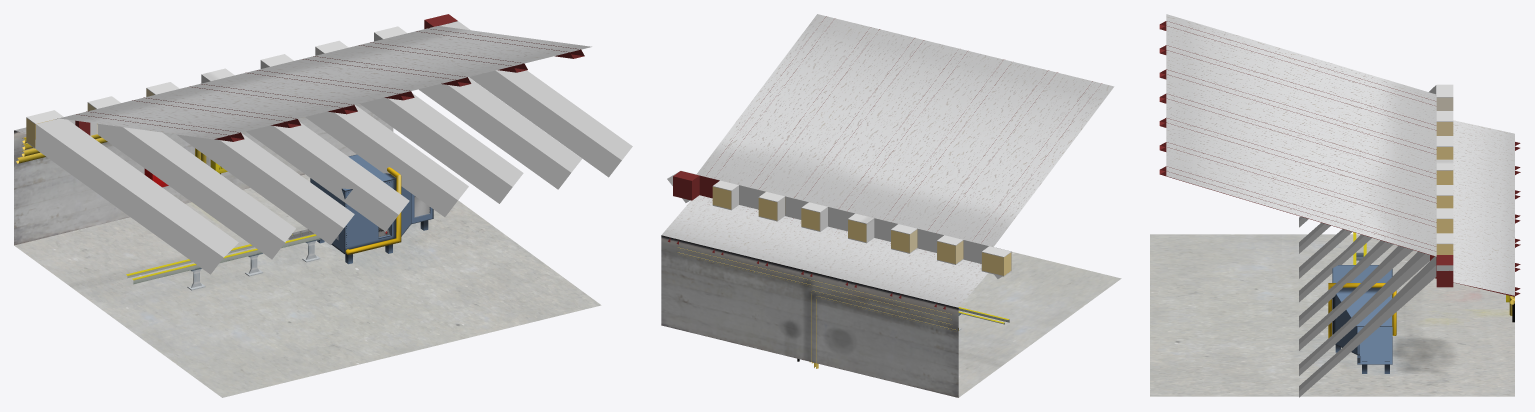
The model's file is Warehouse.FBX.
3 renders of one model, left to right at view 1: azimuth 30°, elevation 25°; view 2: azimuth 150°, elevation 25°; view 3: azimuth 270°, elevation 25°, orthographic. The views are drawn at different scales.
Parts seen in each view (by area): view 1: Hall, Sun Shaft, Machine, BackgroundLineStatic; view 2: Hall, HallPipes; view 3: Hall, Sun Shaft, Machine.
Boxes of the visible parts, <box> form: Hall: <box>14,14,601,397</box>; Sun Shaft: <box>36,21,632,274</box>; Machine: <box>310,154,433,264</box>; BackgroundLineStatic: <box>126,231,320,290</box>; Hall: <box>661,14,1121,397</box>; HallPipes: <box>678,247,958,368</box>; Hall: <box>1150,14,1520,396</box>; Sun Shaft: <box>1299,85,1436,397</box>; Machine: <box>1328,265,1396,373</box>.
Size of the model in its own units: 200 by 95.61 by 142.
